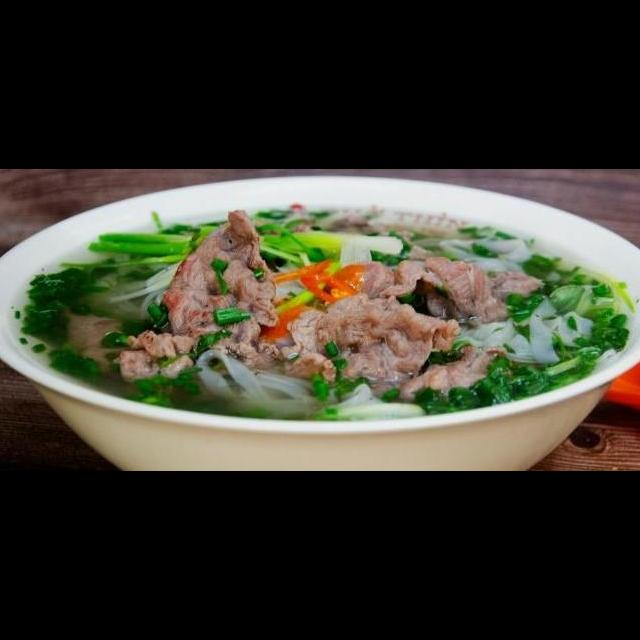banh pho: (188, 342, 387, 432), (448, 295, 601, 370), (430, 229, 566, 289)
pho bo: (0, 196, 640, 465)
thit bo: (110, 204, 284, 391), (272, 288, 513, 404), (340, 246, 548, 326), (55, 304, 138, 377)
